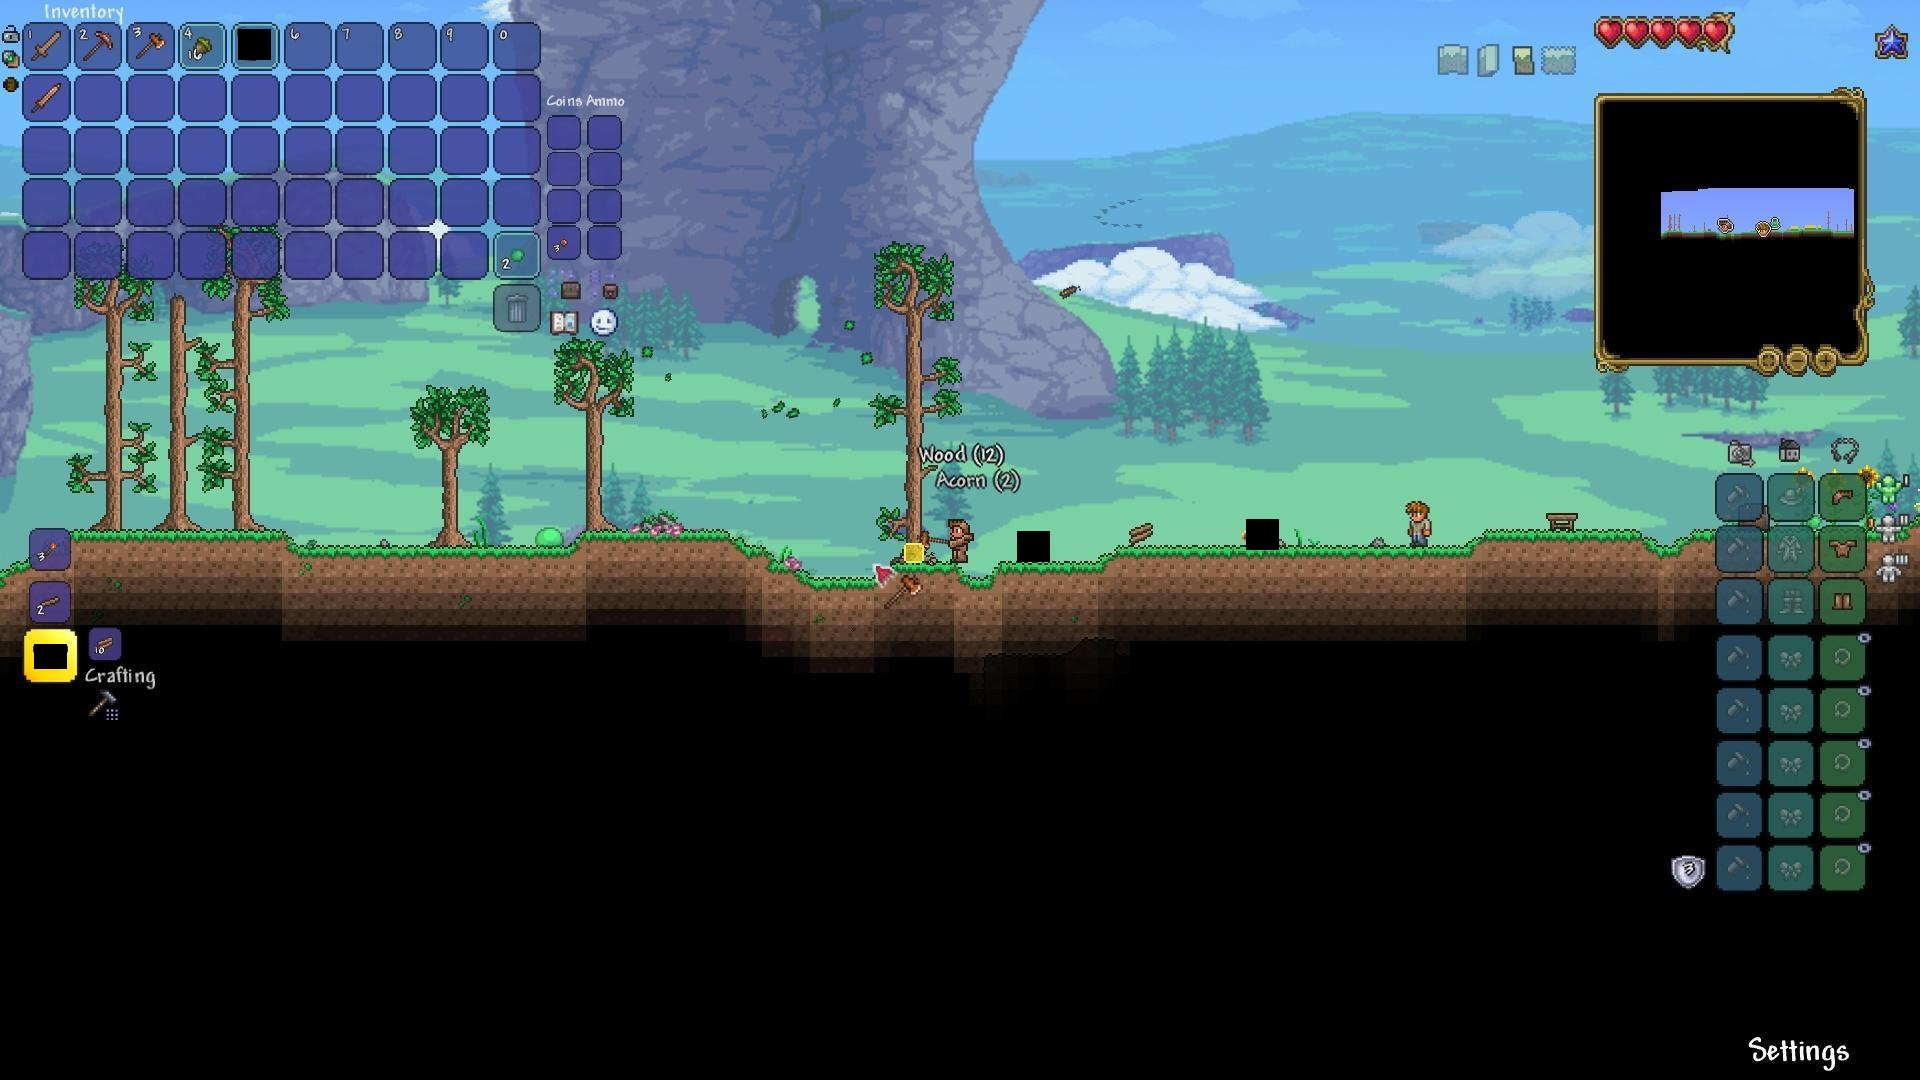breastplate: (1830, 538, 1859, 559)
helmet: (1829, 484, 1858, 510)
legs: (1832, 588, 1855, 616)
slime: (535, 525, 562, 547)
wood: (1126, 520, 1158, 550), (92, 632, 119, 657)
workbench: (1543, 508, 1580, 533)
